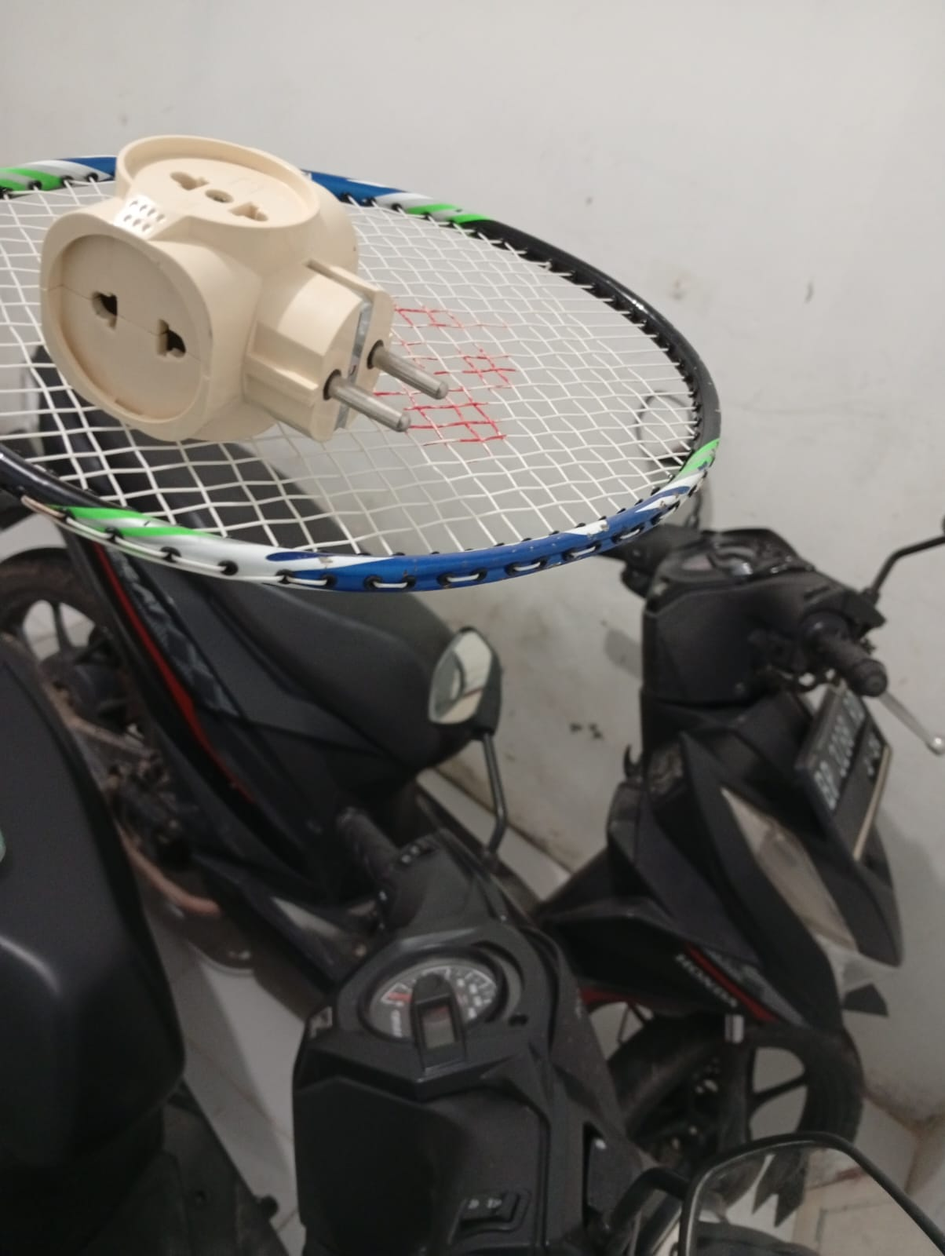Colokan: (97, 48, 568, 424)
